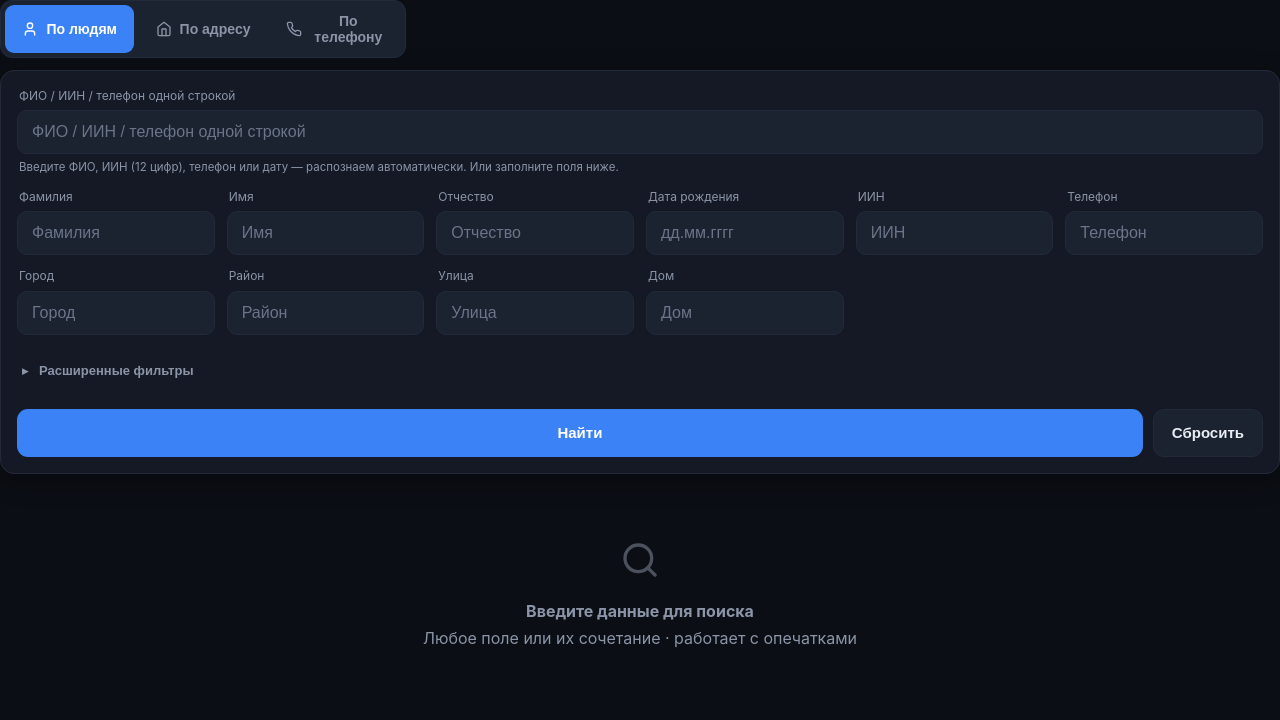
Test case: SearchPage › показывает «ничего не найдено»
The width and height of the screenshot is (1280, 720).
Type "Кого-нет" into the field with placeholder "ФИО / ИИН / телефон одной строкой".
click(640, 132); type("Кого-нет")  # box [17,110,1263,154]
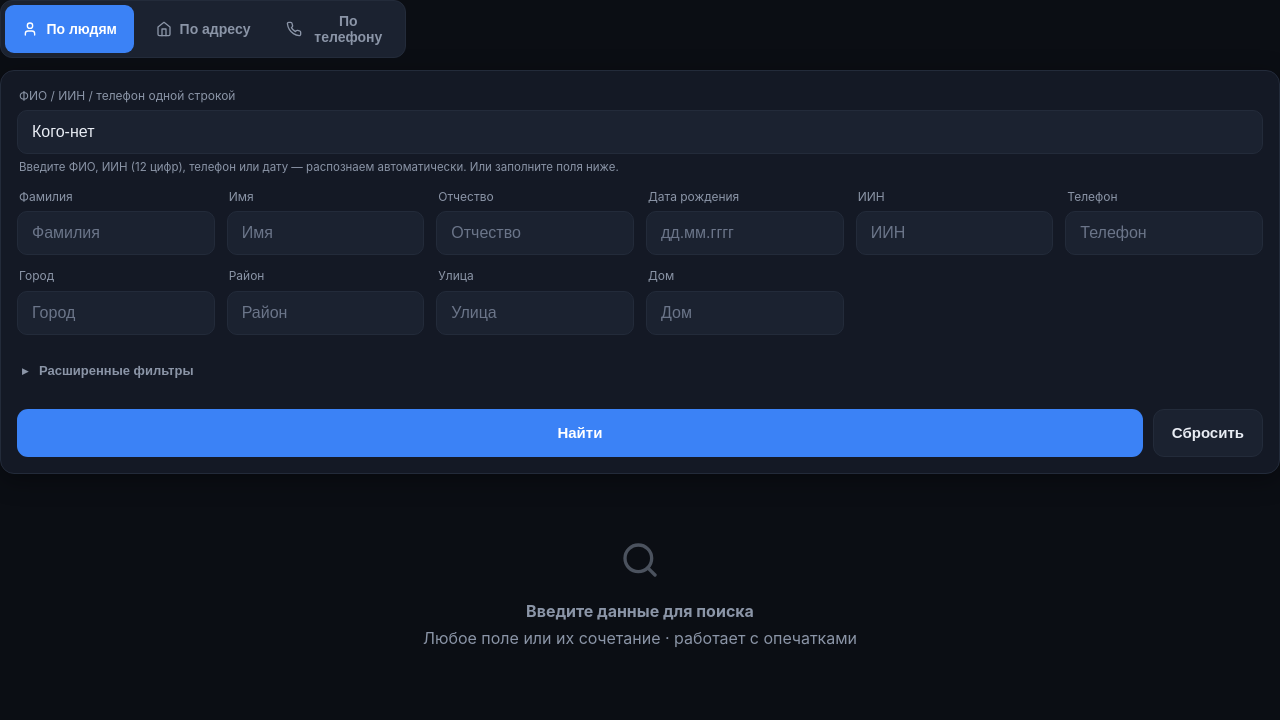
Click the button "Найти".
click(580, 433)  # box [17,409,1143,457]
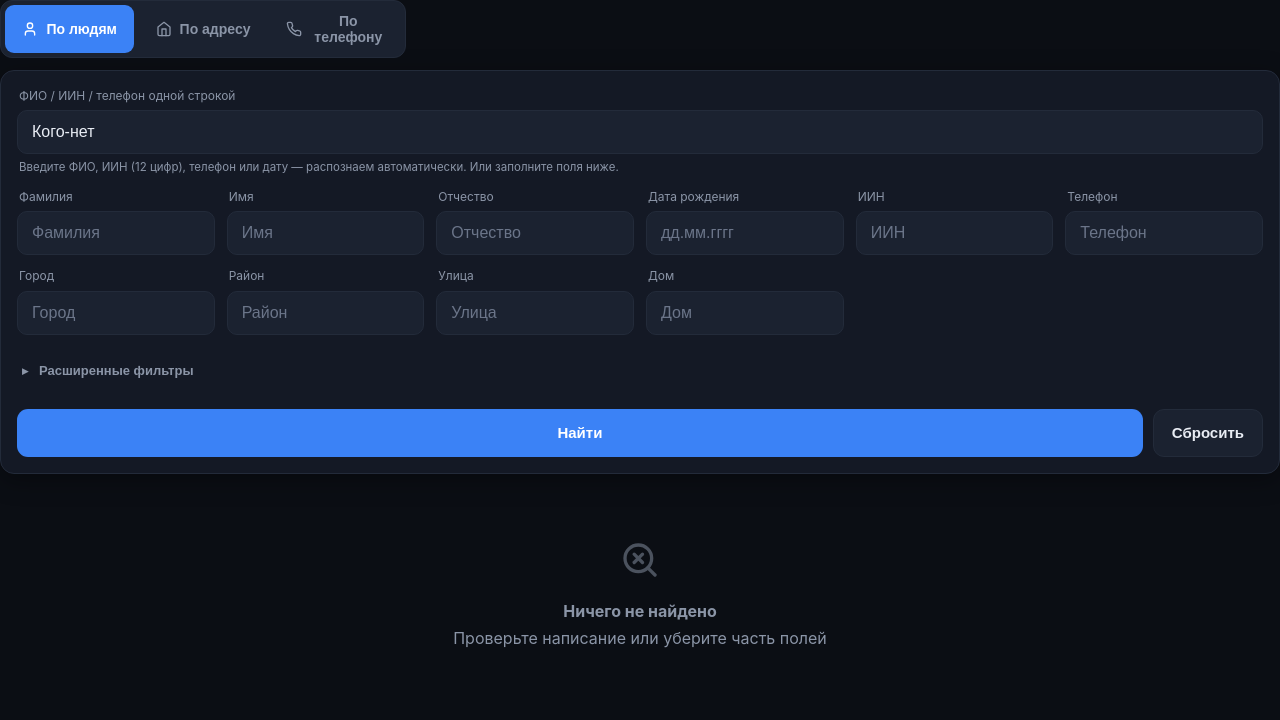
Now the text "Ничего не найдено" is shown, box [563,601,717,621]
